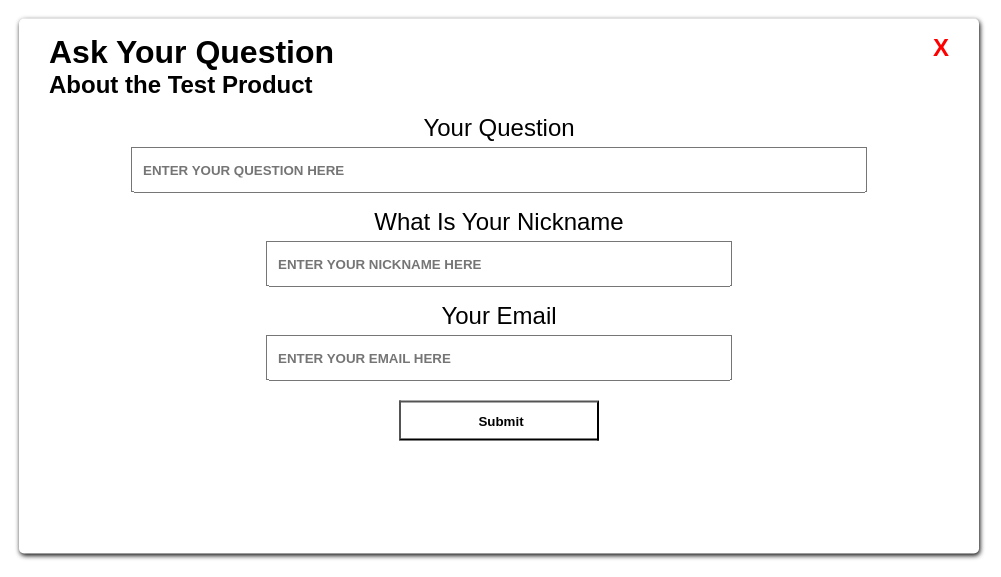
Scenario: Add question › Should display Invalid information if add question form is filled out incorrectly
Type "Test question" into the field with placeholder "ENTER YOUR QUESTION HERE" at {"x": 499, "y": 170}, box [131, 146, 867, 192]
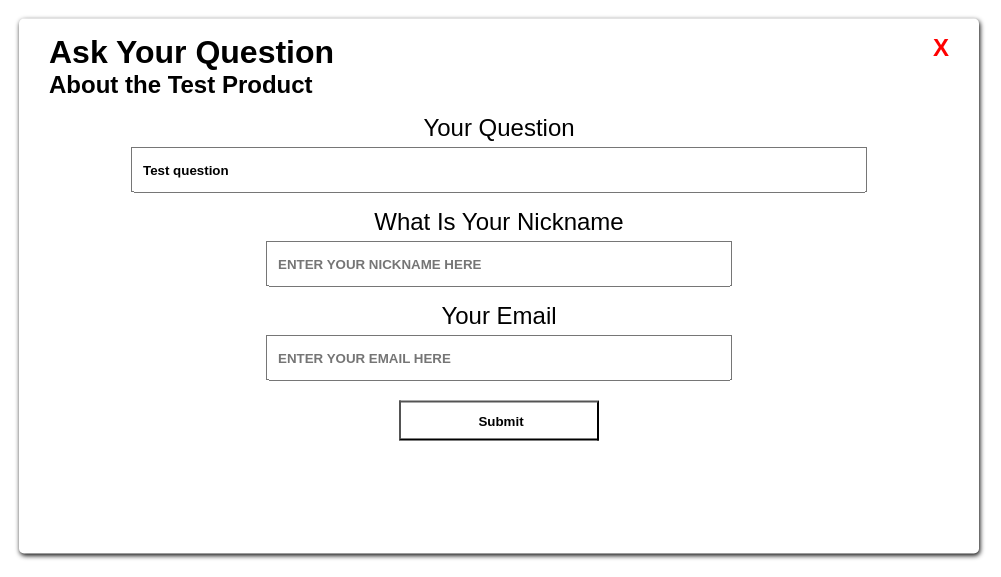
Type "TestNickname" into the field with placeholder "ENTER YOUR NICKNAME HERE" at {"x": 499, "y": 264}, box [266, 240, 732, 286]
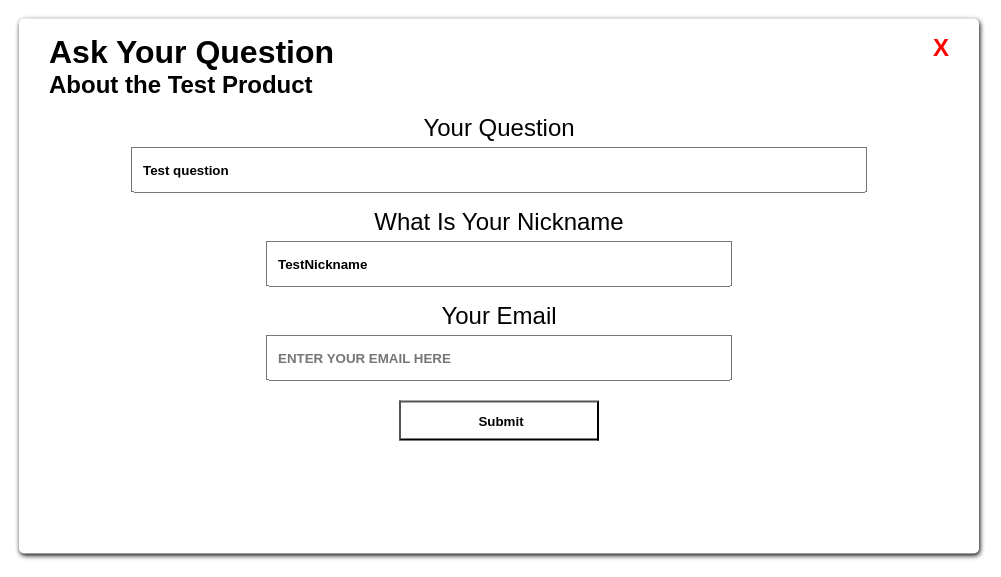
Type "test" into the field with placeholder "ENTER YOUR EMAIL HERE" at {"x": 499, "y": 358}, box [266, 334, 732, 380]
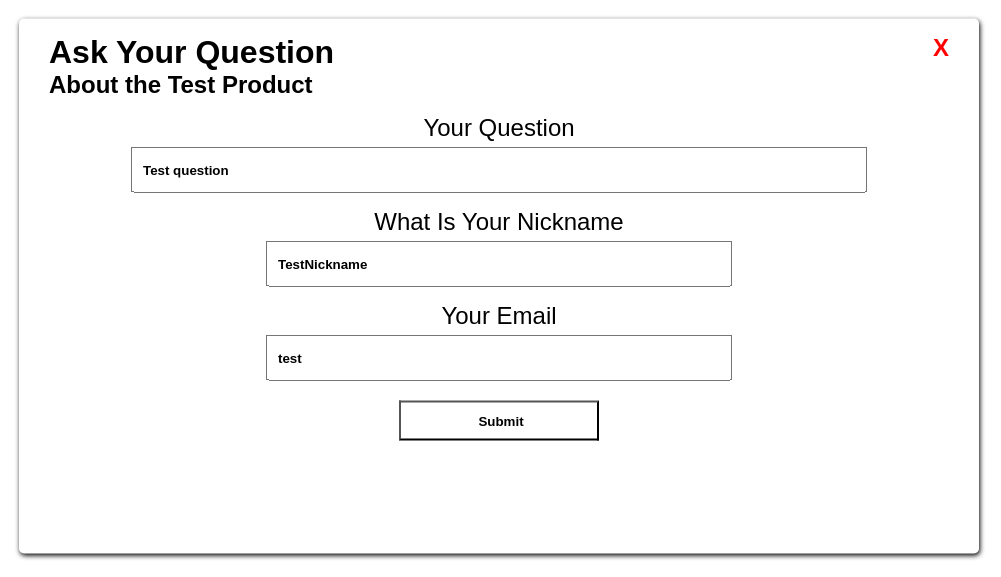
Click the button with test id "qa-addQuestion-submit" at {"x": 499, "y": 420}, box [399, 400, 599, 440]
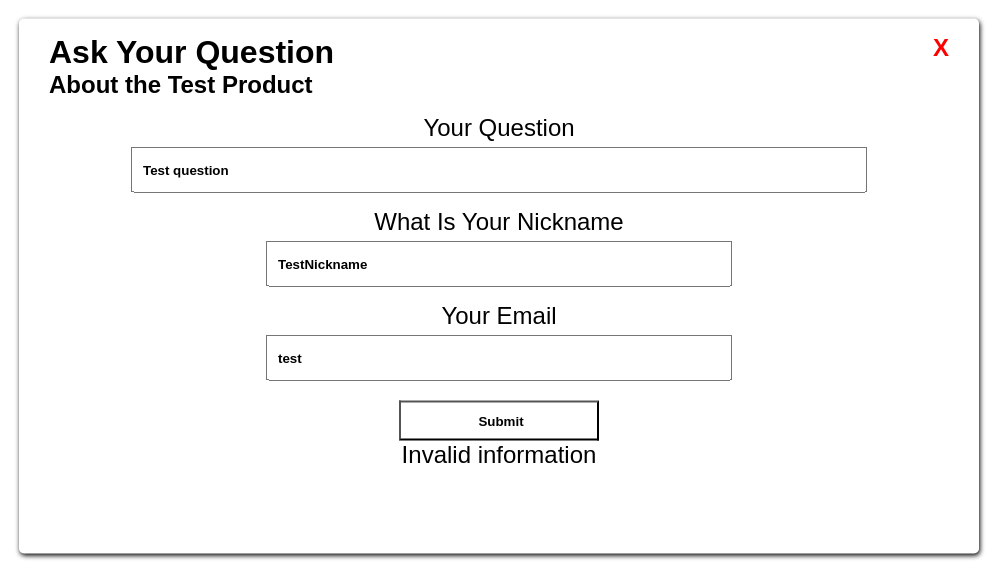
expect the text "Invalid information" is shown: met, box [402, 440, 596, 468]
